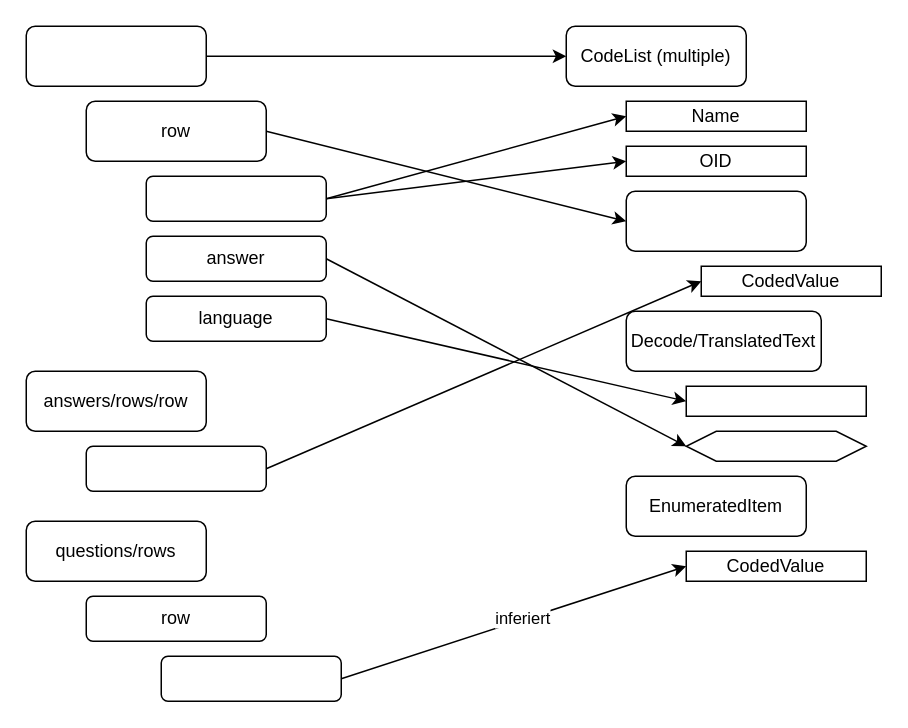
Image size: 908x728. Some labels were removed from this diagram. Each missing label, with the centre of its shape:
aid: the point at 235,198
answer_l10ns/rows: the point at 115,55
code: the point at 175,468
CodeListItem: the point at 715,220
Inhalt: the point at 775,445
type: the point at 250,678
xml:lang: the point at 775,400
